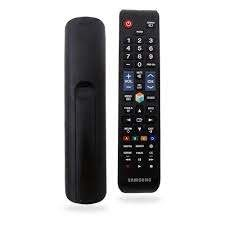remote control: (59, 17, 111, 204), (120, 10, 164, 192)
